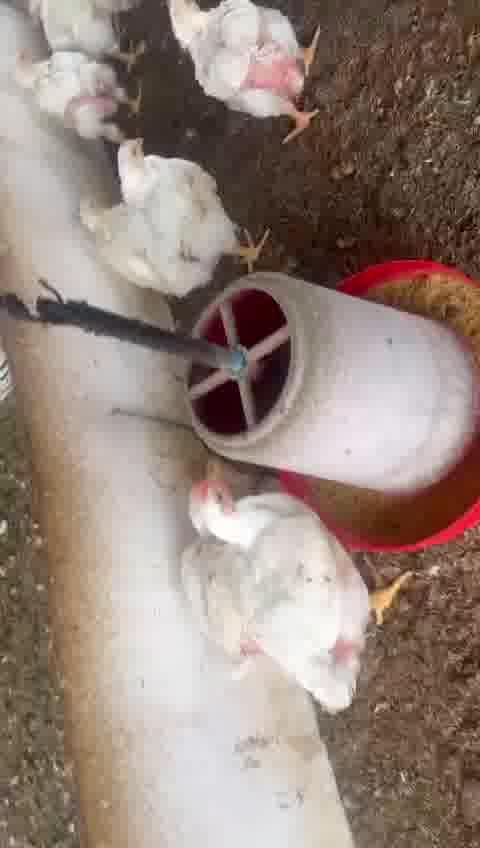Normal: (189, 479, 383, 705), (119, 137, 271, 273), (172, 4, 325, 138), (7, 50, 142, 145)
